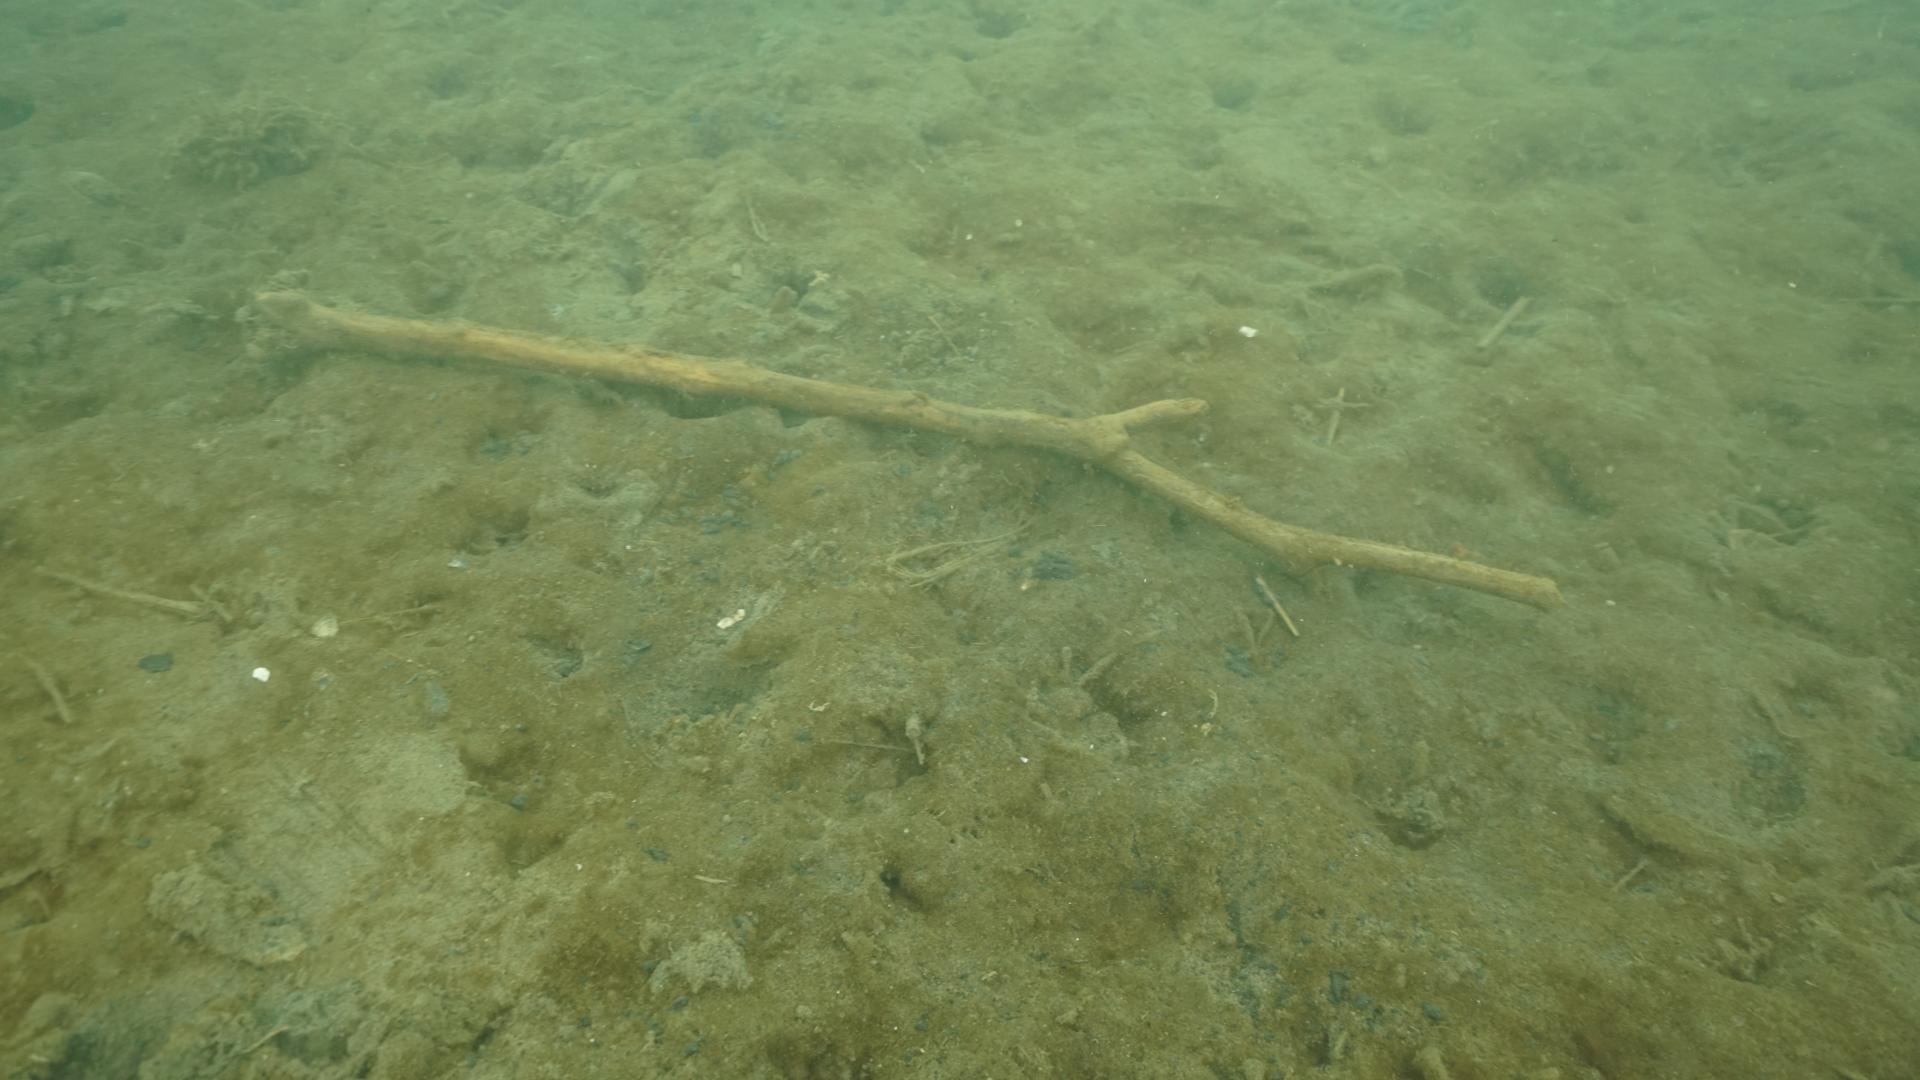wood: (233, 266, 1563, 615)
